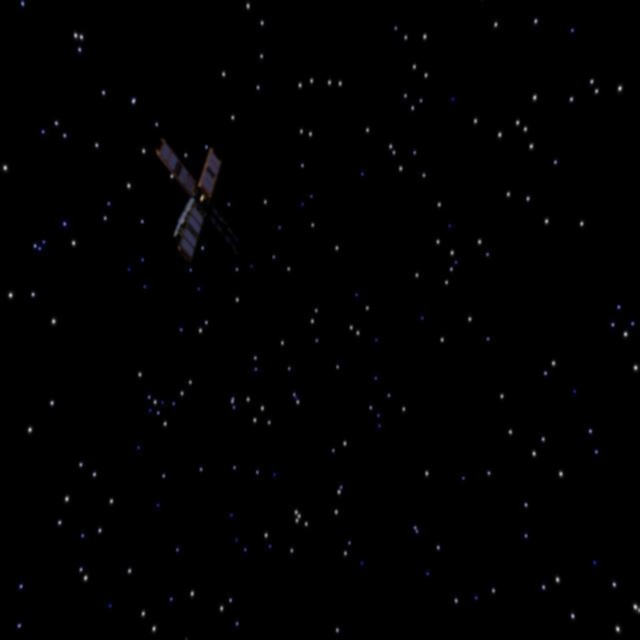medium_debris: (156, 125, 252, 271)
